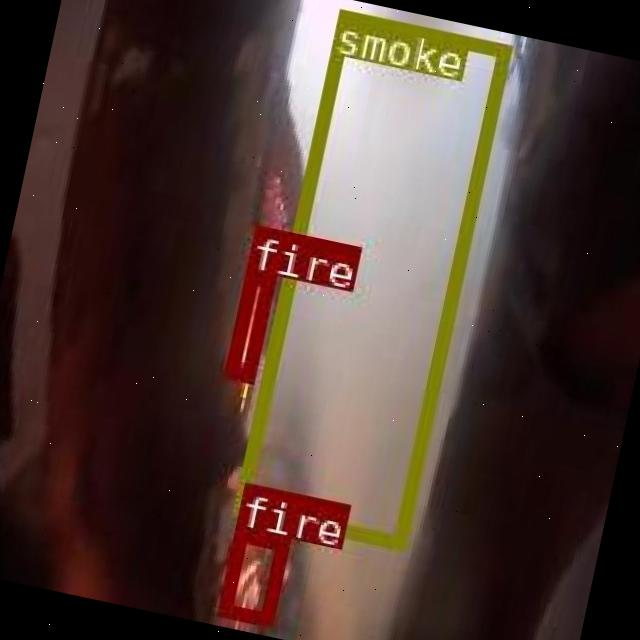fire: (215, 524, 288, 622), (222, 267, 274, 381)
smoke: (230, 7, 510, 547)
